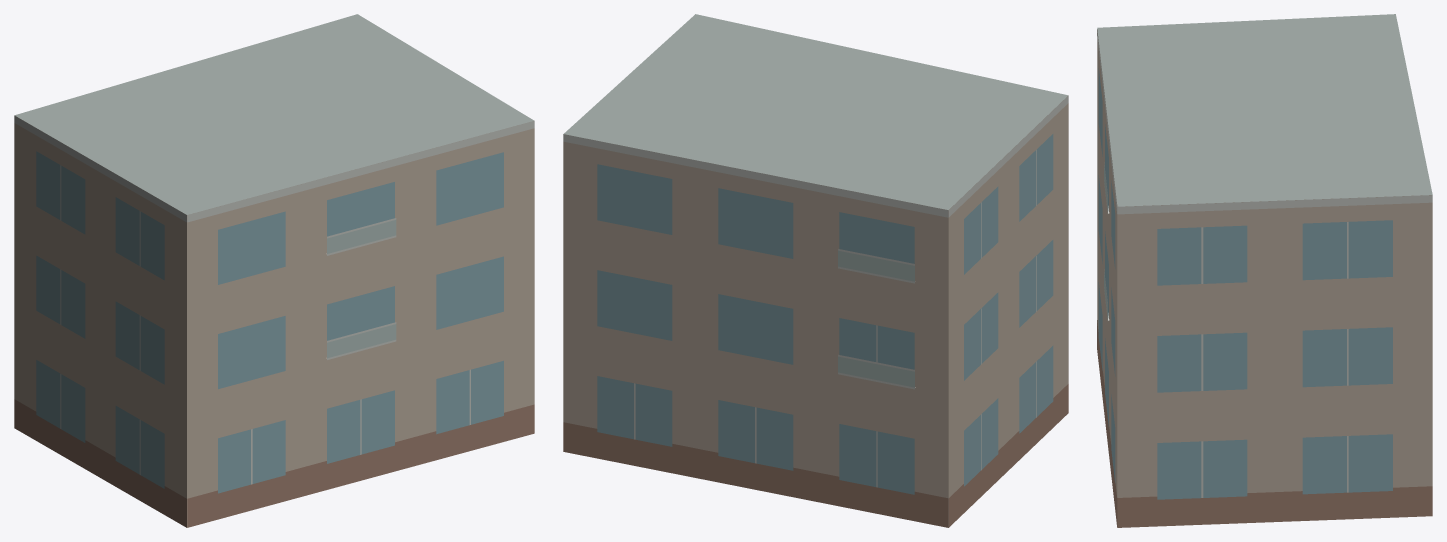
Rendered from survey-upis-32529732.glb.
3 renders of one model, left to right at view 1: azimuth 30°, elevation 25°; view 2: azimuth 150°, elevation 25°; view 3: azimuth 270°, elevation 25°, orthographic. The views are drawn at different scales.
Parts seen in each view (by area): view 1: survey-upis-32529732.tmp; view 2: survey-upis-32529732.tmp; view 3: survey-upis-32529732.tmp.
Part boxes in pixels (x1,y1,x2,y2): survey-upis-32529732.tmp: [14, 14, 534, 527]; survey-upis-32529732.tmp: [563, 14, 1068, 527]; survey-upis-32529732.tmp: [1097, 14, 1432, 527].
Bounding box in the file's own units: 13.14 × 10.2 × 9.67.
